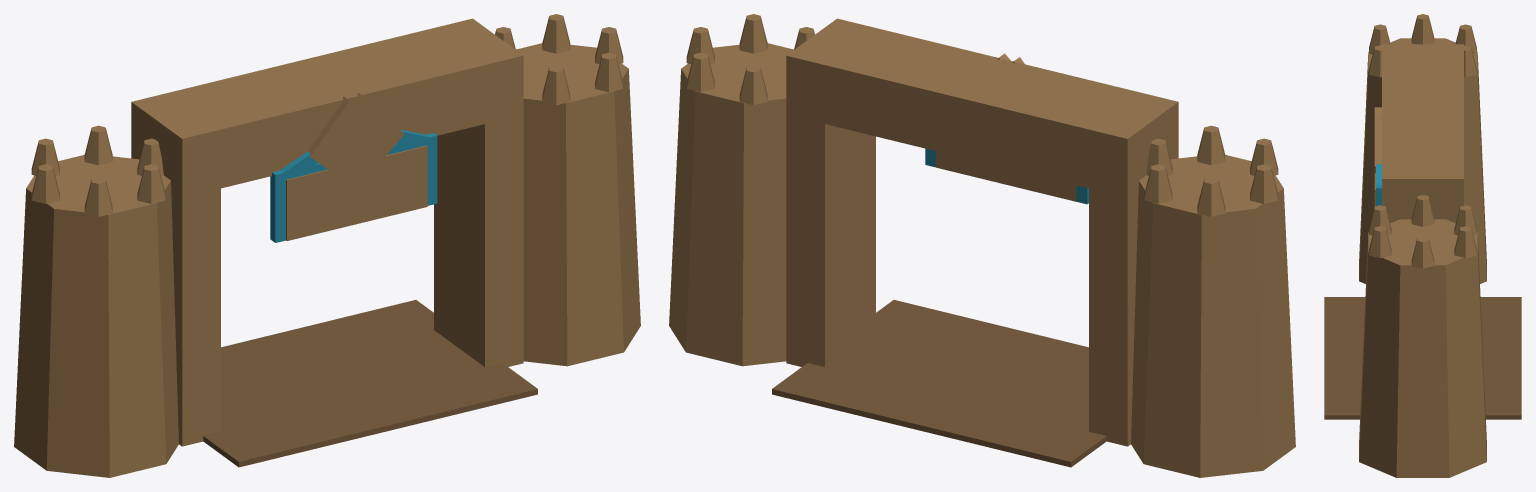
The model's file is gate_t1.glb.
3 renders of one model, left to right at view 1: azimuth 30°, elevation 25°; view 2: azimuth 150°, elevation 25°; view 3: azimuth 270°, elevation 25°, orthographic. The views are drawn at different scales.
Visible parts, largest first — view 1: body; view 2: body; view 3: body.
Part boxes in pixels (left/top/right/bottom): body: left=14, top=14, right=640, bottom=477; body: left=669, top=14, right=1295, bottom=477; body: left=1324, top=14, right=1521, bottom=477.
Size of the model in its own units: 3.38 by 1.68 by 1.2.
